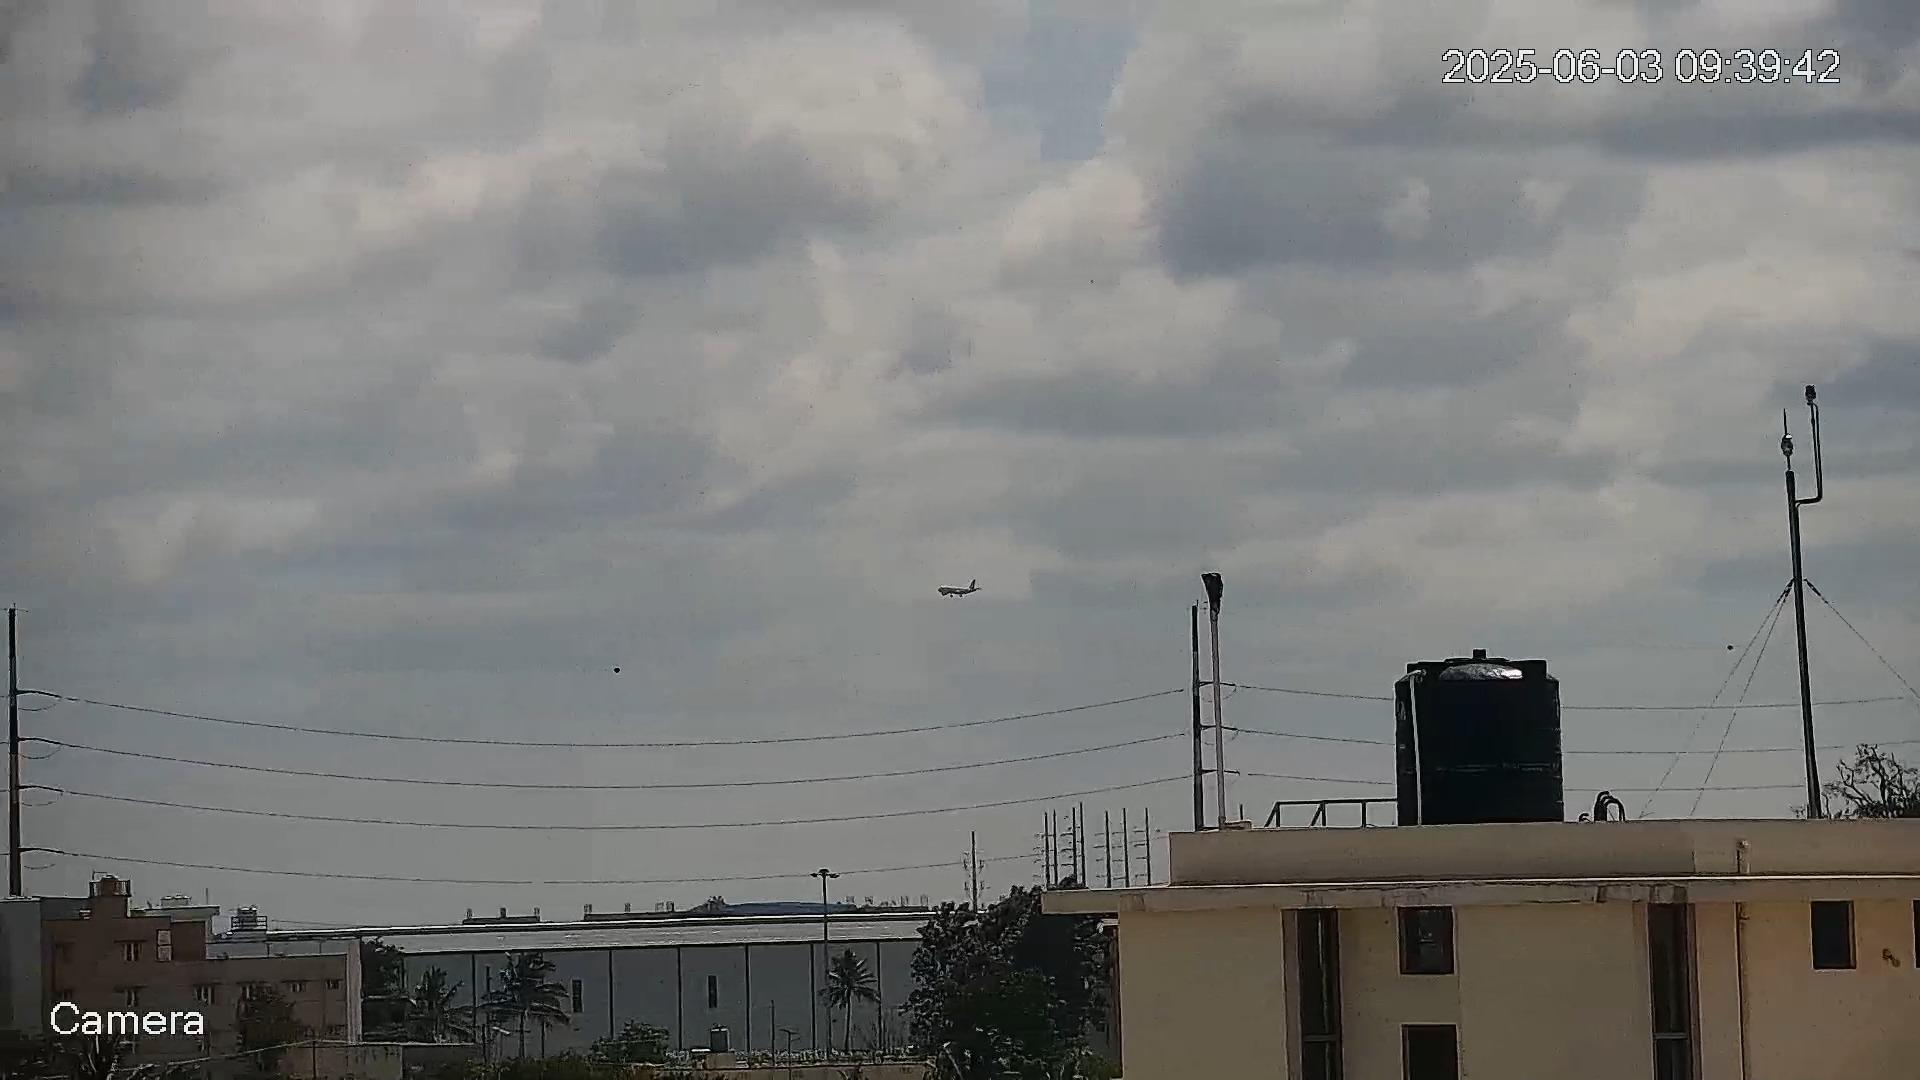Aircraft: (931, 575, 981, 600)
